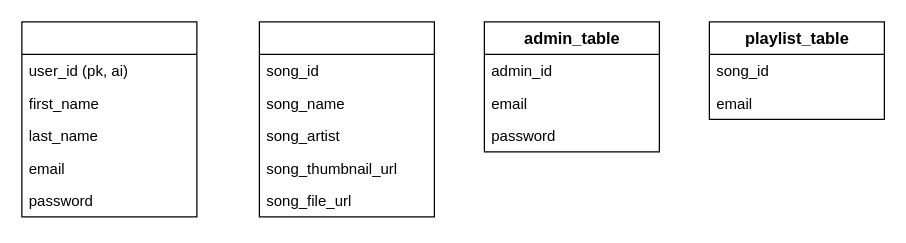
Image size: 906x243. Some labels were removed from this diagram. The box of each missing label's shape, as (x1, y1, x2, y2) in pixels:
song_table: (258, 21, 434, 217)
user_table: (21, 21, 197, 217)
